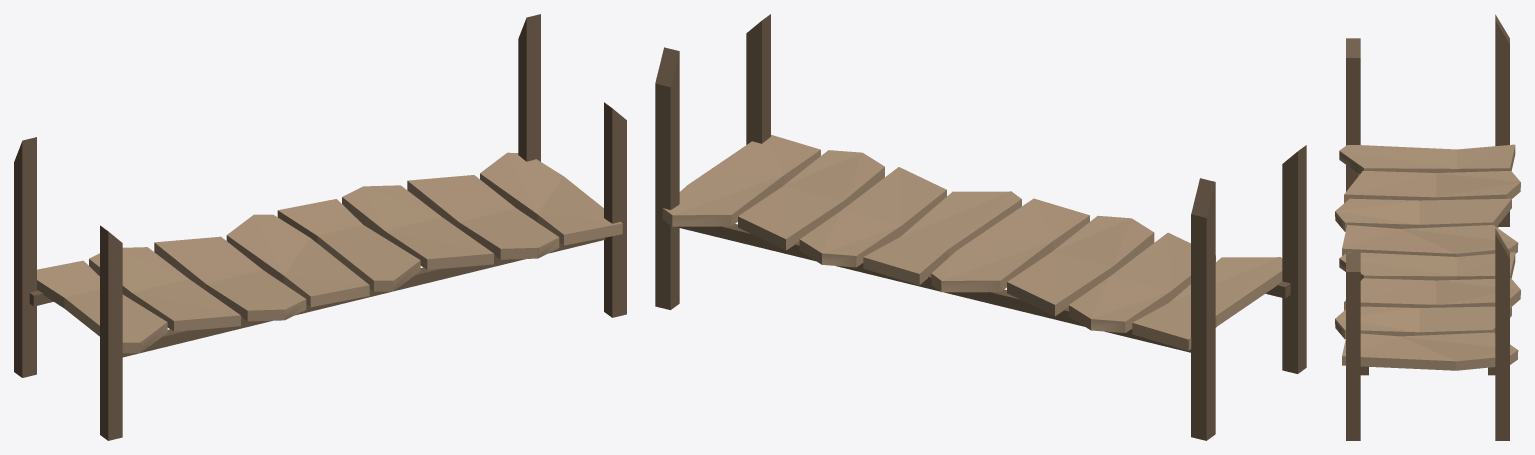
Rendered from Bridge_1_1.fbx.
3 views of the same model, side by side, from view 1: azimuth 30°, elevation 25°; view 2: azimuth 150°, elevation 25°; view 3: azimuth 270°, elevation 25° (orthographic). The views are drawn at different scales.
Visible parts, largest first — view 1: Bridge_1_1; view 2: Bridge_1_1; view 3: Bridge_1_1.
Boxes of the visible parts, bbox=[...] form: Bridge_1_1: bbox=[14, 14, 626, 440]; Bridge_1_1: bbox=[655, 14, 1306, 440]; Bridge_1_1: bbox=[1335, 14, 1520, 440].
Bounding box in the file's own units: 411 × 180 × 146.
Materials: 1 (1 with a texture image).
